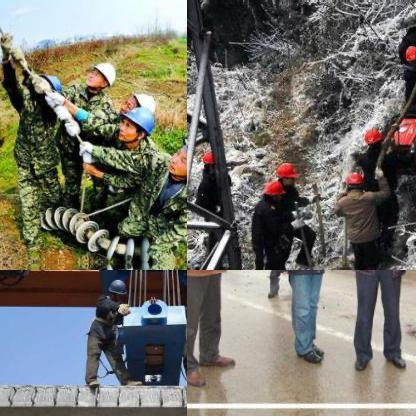Helmet: (108, 100, 158, 144), (83, 58, 117, 90), (167, 129, 186, 182), (118, 92, 158, 115), (200, 142, 228, 173), (32, 69, 60, 95), (340, 168, 368, 194), (256, 180, 284, 204), (106, 275, 130, 302), (274, 161, 298, 183), (362, 124, 384, 148), (401, 40, 415, 69), (181, 289, 186, 310)
